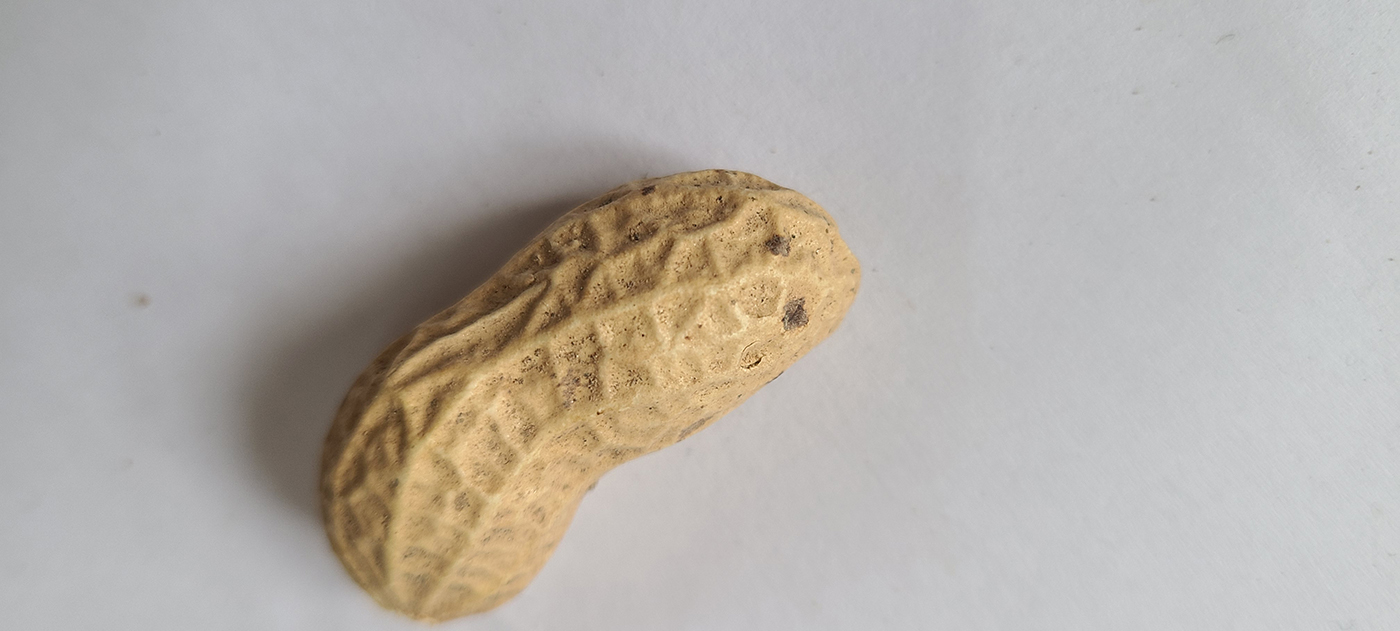h: (316, 168, 863, 620)
